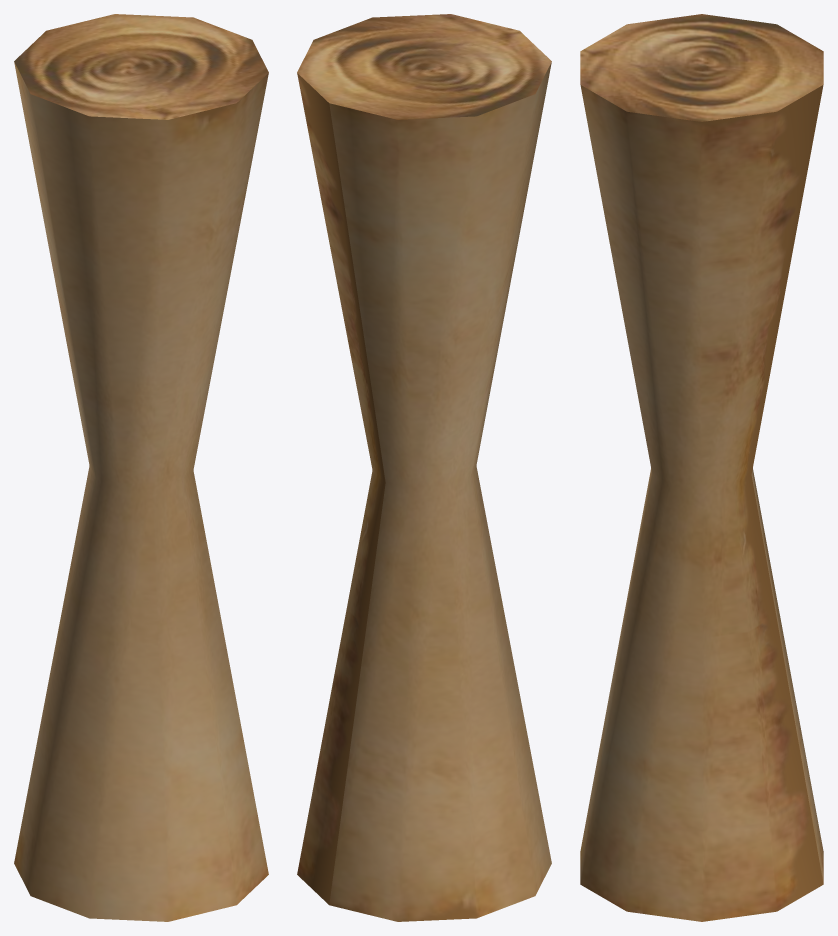
Rendered from scroll01.FBX.
3 renders of one model, left to right at view 1: azimuth 30°, elevation 25°; view 2: azimuth 150°, elevation 25°; view 3: azimuth 270°, elevation 25°, orthographic.
Visible parts, largest first — view 1: scroll01; view 2: scroll01; view 3: scroll01.
Boxes of the visible parts, x1,y1,x2,y2 form: scroll01: [14, 14, 268, 921]; scroll01: [297, 14, 551, 921]; scroll01: [580, 14, 823, 921].
Bounding box in the file's own units: 0.1666 × 0.5752 × 0.1584.
